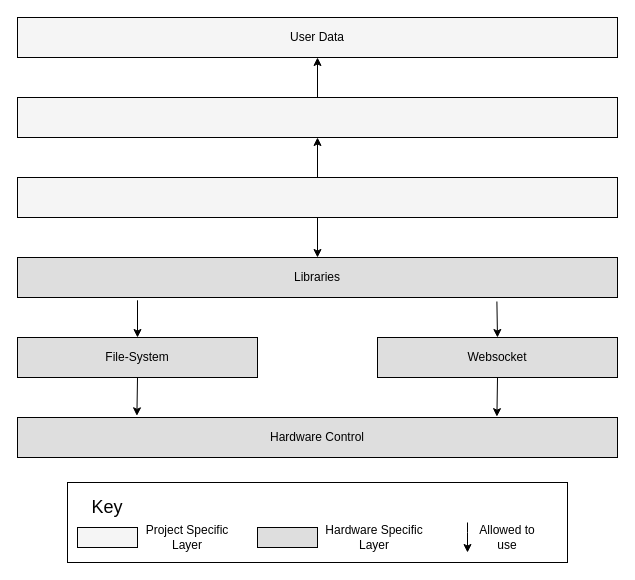
This 635x580 diagram has some shape labels left out. The shapes that lost their labels are listed below. From the top down, each one's centre as x and y in pixels, then its label:
the point at 317,117: Message Handling
the point at 317,197: Connection Handling
